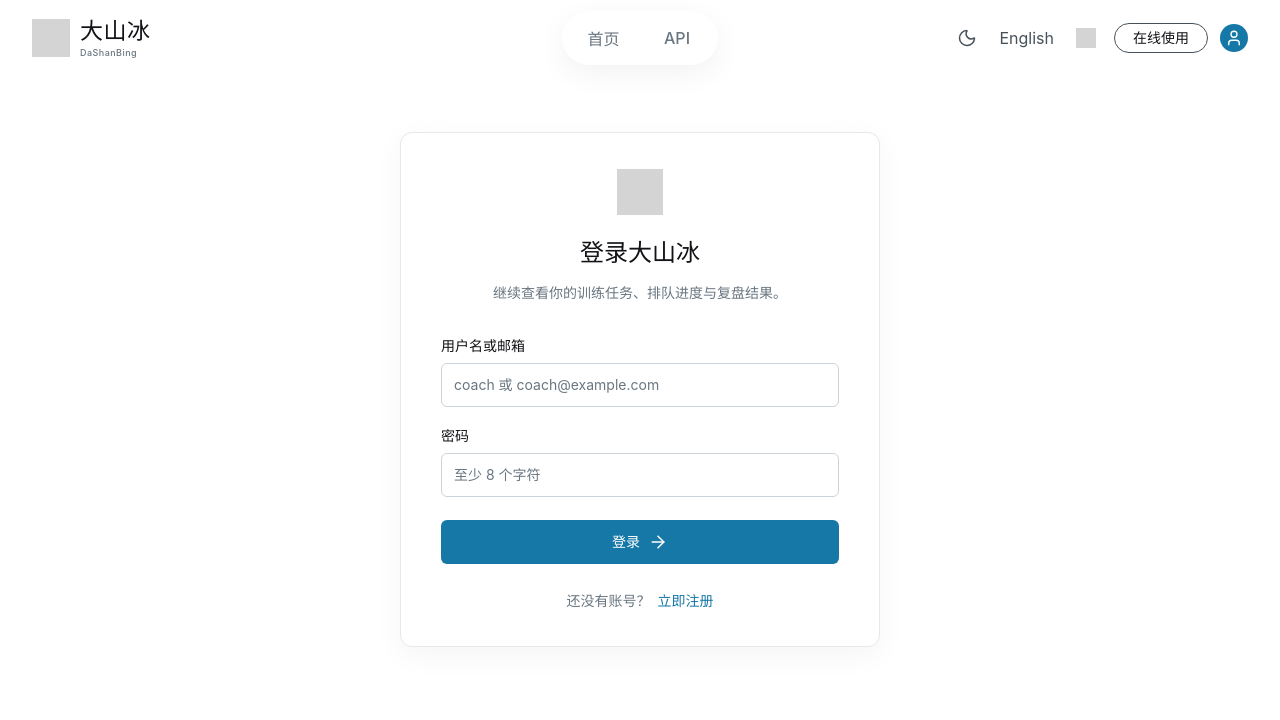
Test: authentication and protected routes › logs in with username or email, refreshes cookie auth, and redirects back
Type "coach@example.com" into the field labelled "用户名或邮箱" at (640, 385), box [441,363,839,407]
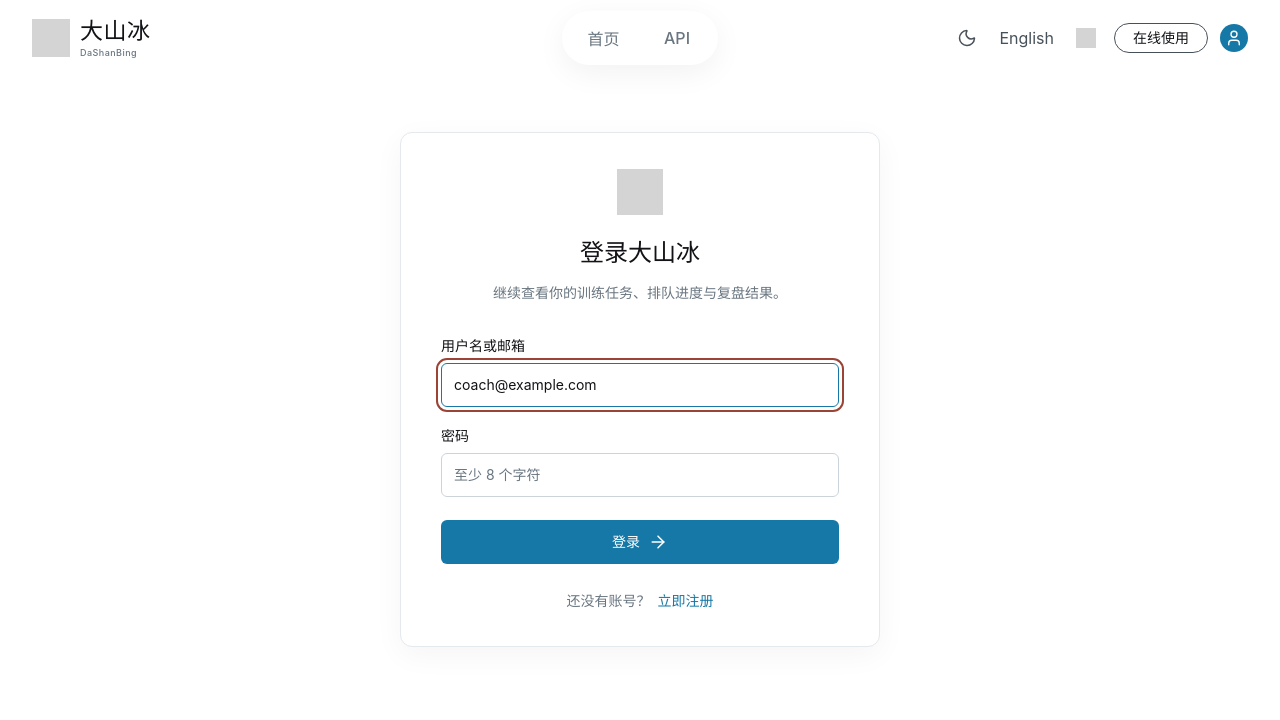
Type "practice123" into the password field labelled "密码" at (640, 475), box [441,453,839,497]
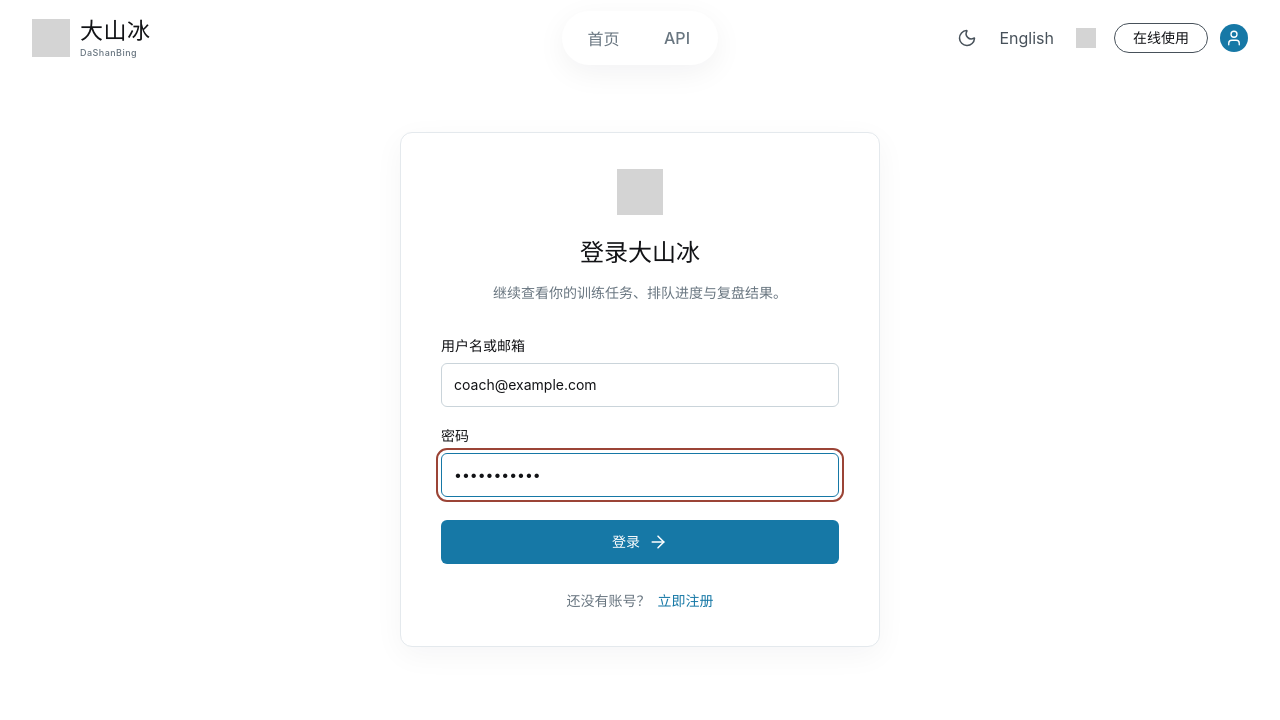
Click the button "登录" at (640, 542), box [441,520,839,564]
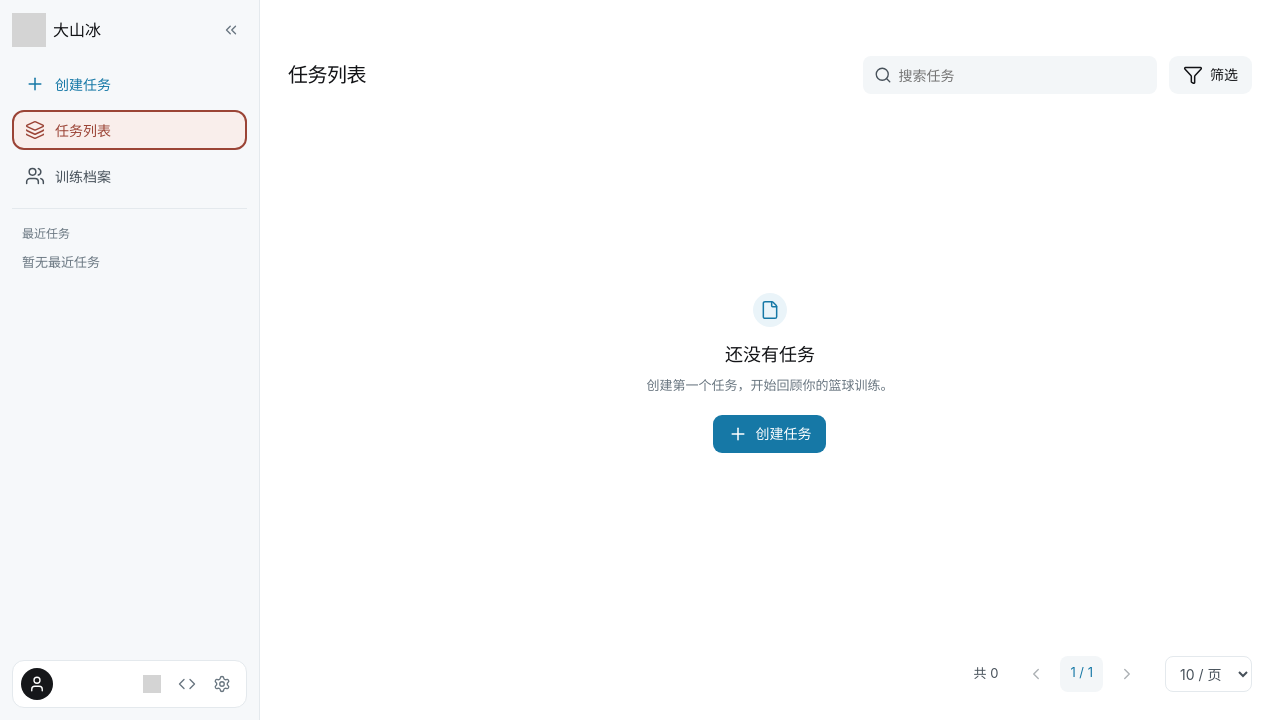
Expected: the link named "coach" is shown, [21,668,53,700]
